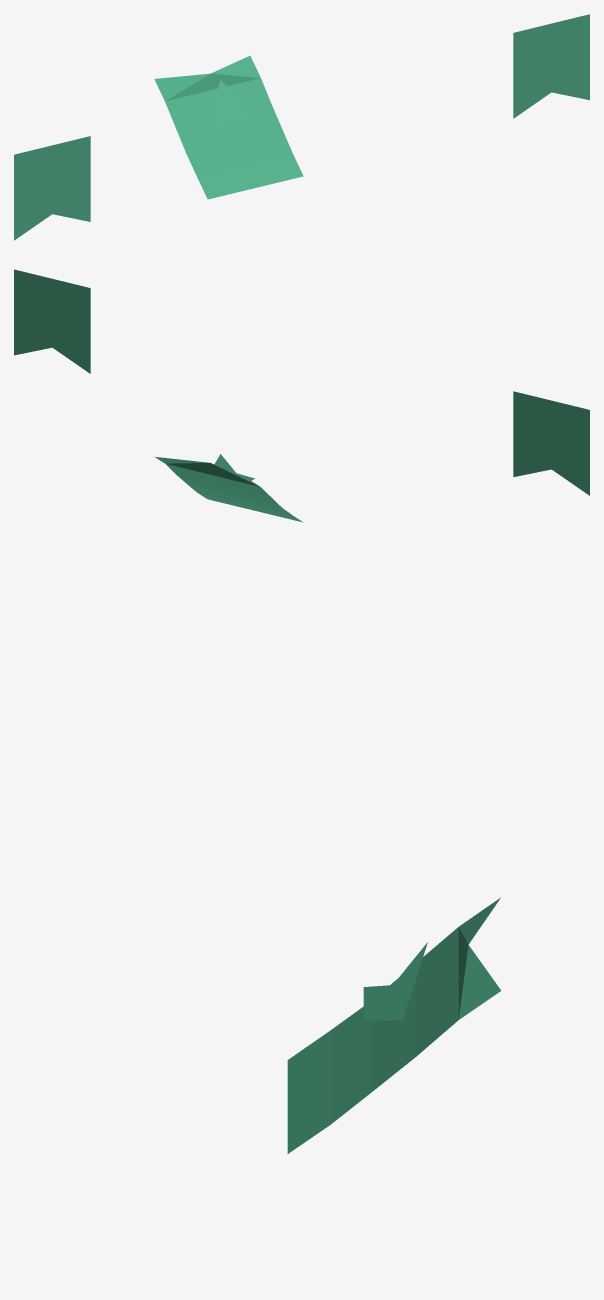
Rendered from barracks-lod1.glb.
3 views of the same model, one above another, from view 1: azimuth 30°, elevation 25°; view 2: azimuth 150°, elevation 25°; view 3: azimuth 270°, elevation 25° (orthographic). The views are drawn at different scales.
Parts seen in each view (by area): view 1: BannerTeam; view 2: BannerTeam; view 3: BannerTeam.
Part boxes in pixels (x1,y1,x2,y2): BannerTeam: (14, 14, 589, 240); BannerTeam: (14, 269, 589, 522); BannerTeam: (287, 897, 501, 1153).
Size of what is drawn, in the model's own units: 6.3 by 1.44 by 1.89.
